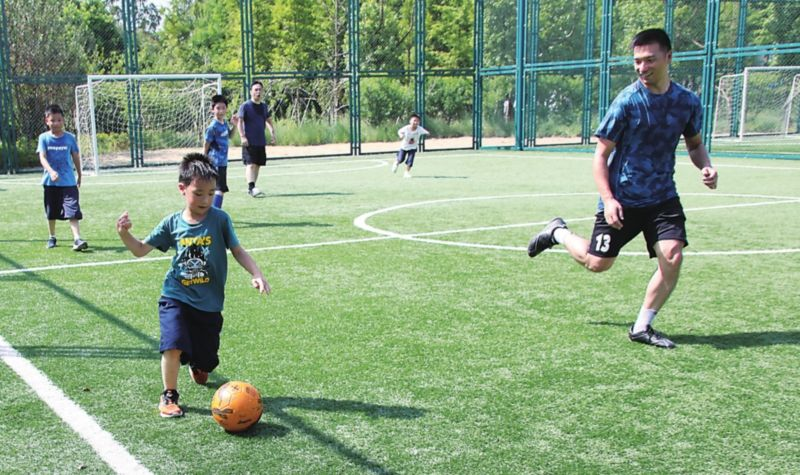football: (211, 379, 267, 435)
